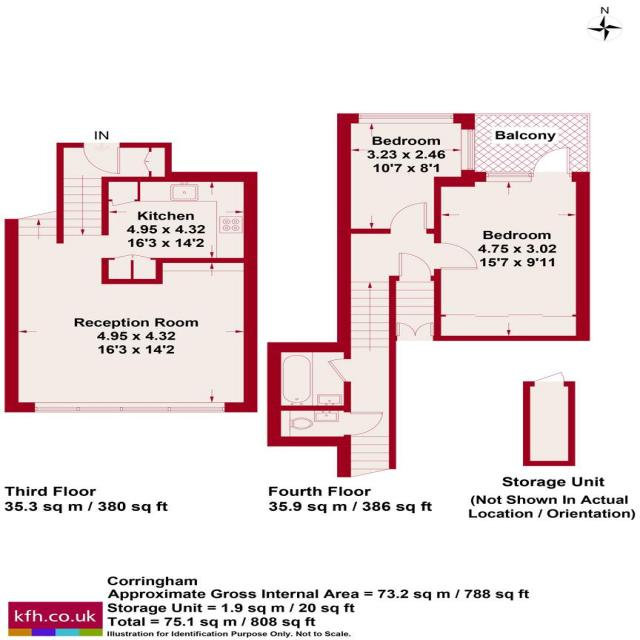DOOR: (531, 147, 573, 182), (81, 142, 123, 175), (433, 242, 478, 270), (389, 202, 428, 234), (343, 411, 384, 435), (325, 358, 352, 383)
ROOM: (434, 146, 590, 341), (101, 171, 258, 284), (337, 113, 475, 234)
WINDOW: (33, 401, 227, 413), (357, 113, 455, 124), (460, 128, 475, 171), (484, 171, 533, 183)
